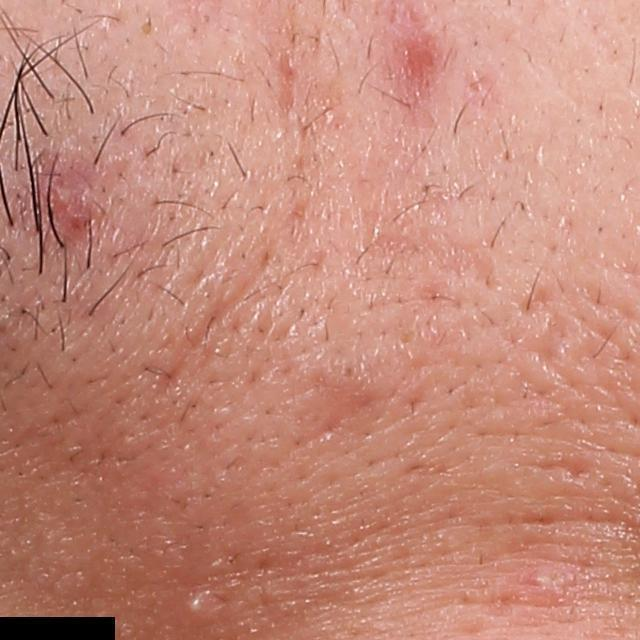atrophic_scar: (164, 276, 263, 394), (311, 367, 387, 443), (520, 452, 601, 486), (275, 41, 305, 120), (515, 280, 558, 318)
comedo: (134, 18, 158, 42)
pustule: (179, 589, 206, 619)
